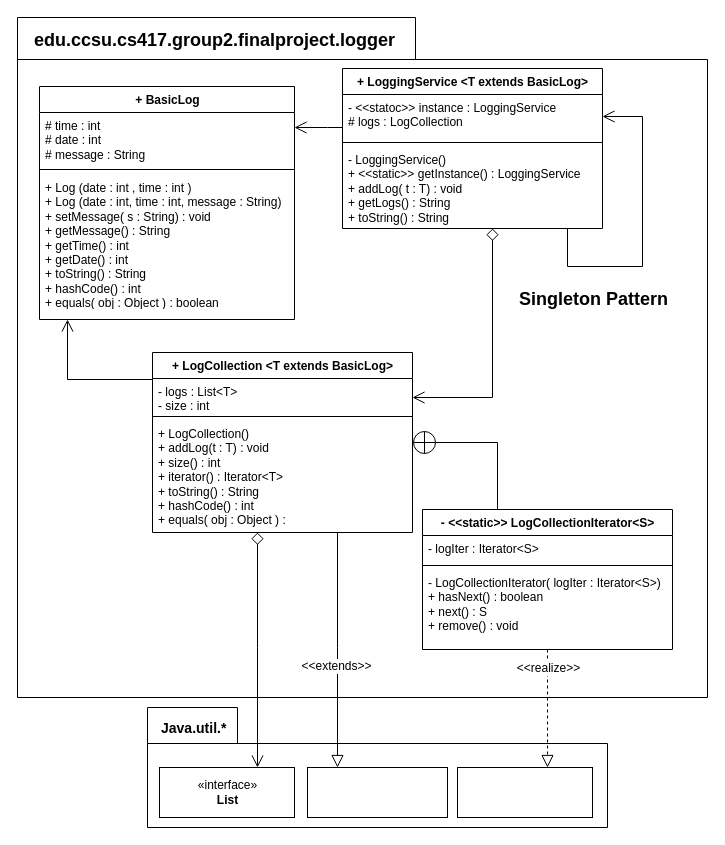
The diagram is 725 pixels wide and 845 high, and some of its shapes have lost their labels. Each missing label, with the centre of its shape:
«abstract» AbstractCollection: pixel 377 792
«interface» Iterator: pixel 524 792
